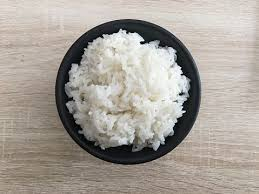Nasi putih: (66, 31, 185, 155)
